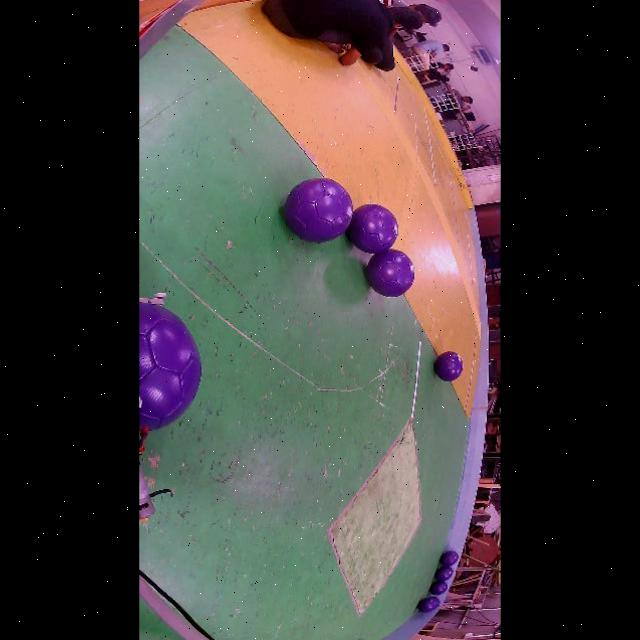P: (137, 301, 200, 431), (283, 178, 351, 243), (345, 204, 398, 253), (365, 250, 413, 297), (433, 351, 462, 382), (439, 550, 457, 567), (429, 580, 447, 595), (434, 567, 452, 582), (417, 597, 434, 612), (431, 597, 439, 607)
